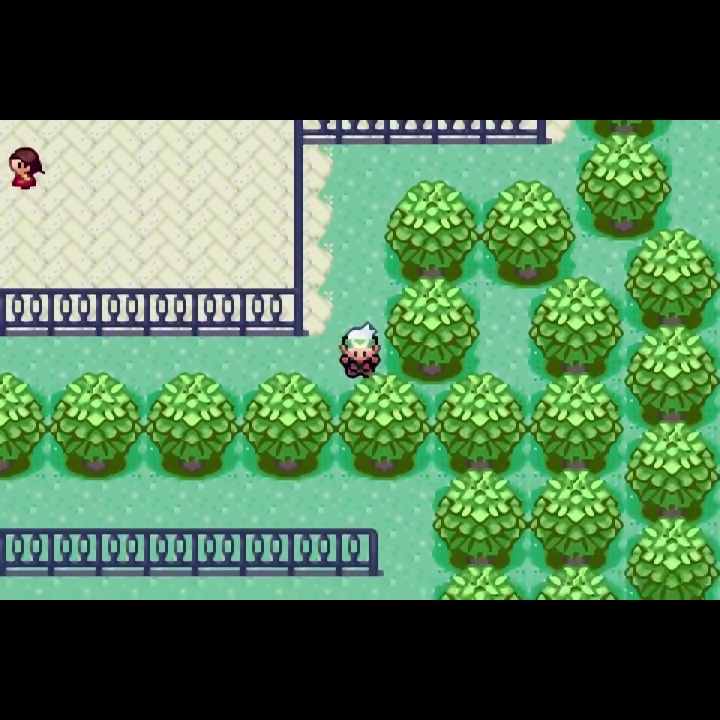npc: (337, 321, 382, 382), (7, 145, 49, 193)
wall: (238, 371, 337, 485), (384, 178, 482, 290), (48, 372, 146, 484), (337, 373, 433, 486), (480, 177, 576, 288), (144, 372, 240, 483), (384, 275, 483, 376), (433, 373, 529, 476), (577, 134, 670, 239), (529, 370, 624, 472), (529, 275, 625, 375), (625, 418, 720, 517), (626, 228, 720, 328), (433, 471, 528, 568), (624, 326, 720, 421), (533, 469, 624, 563), (624, 512, 720, 600), (1, 372, 48, 481), (434, 564, 529, 599), (530, 564, 625, 599), (577, 121, 670, 142)
